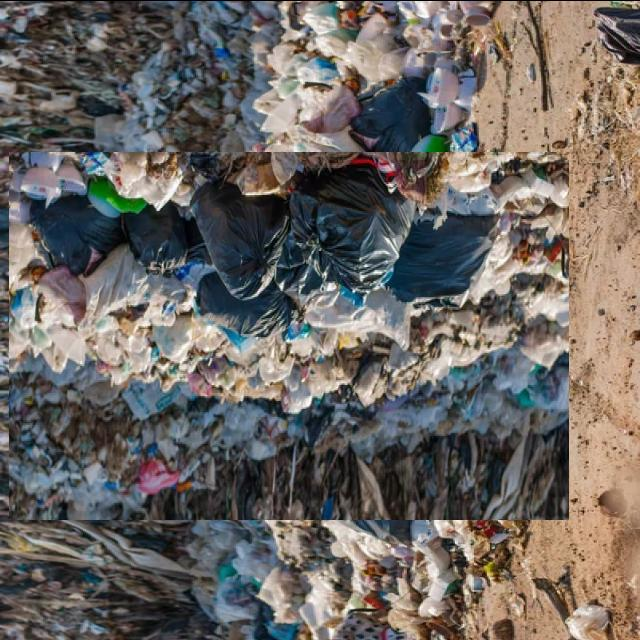garbage: (57, 102, 522, 568)
